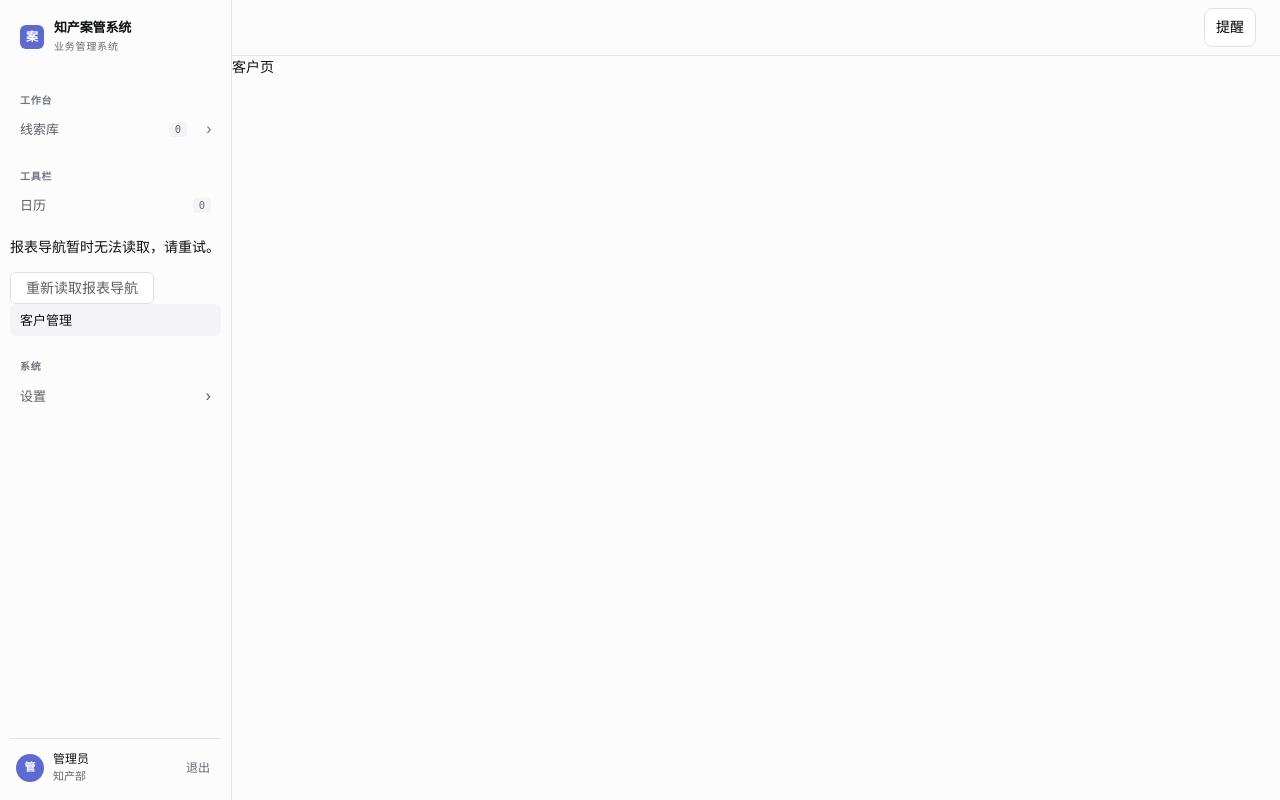
Scenario: application session controls › shows personnel navigation only when management context is readable
Click the button with test id "settings-expand". click: coordinates (116, 396)
box: [10,380,221,412]
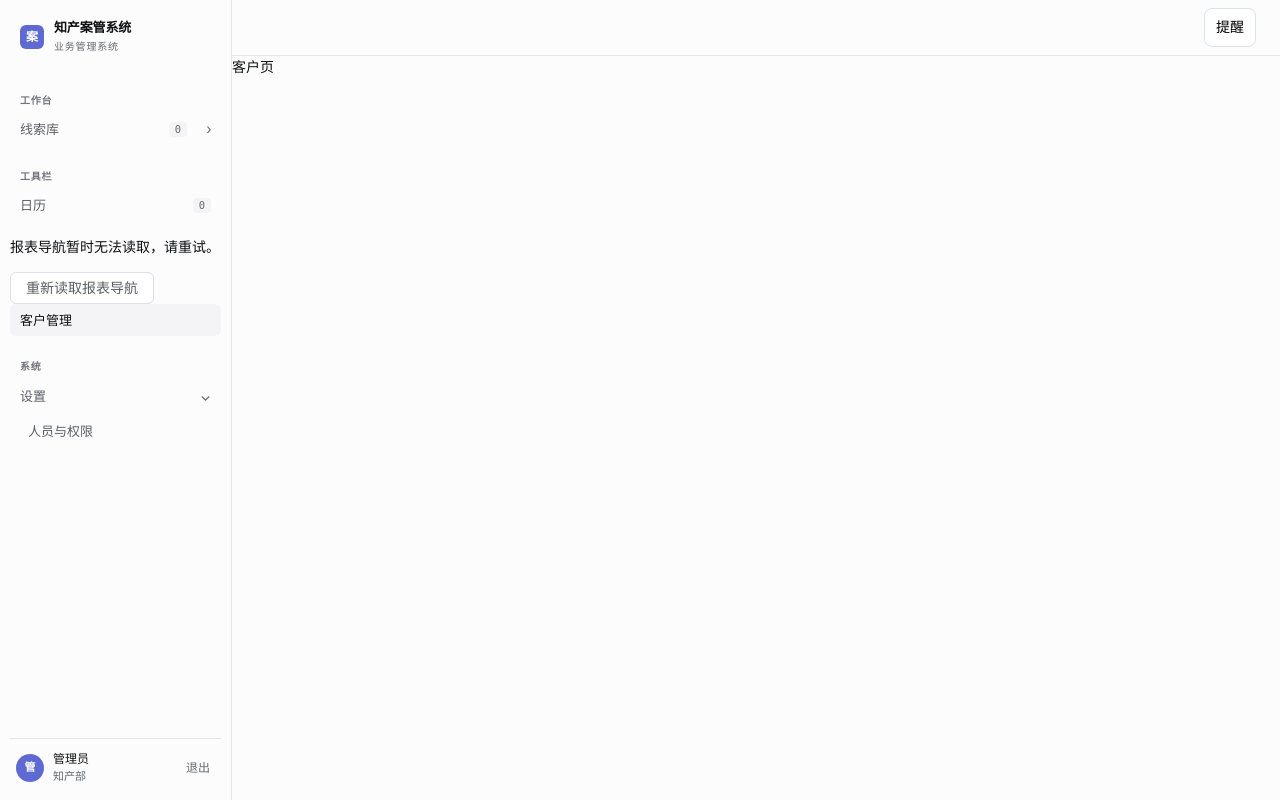
Expected: the link with test id "people-access-nav" is shown, [28,423,93,439]
